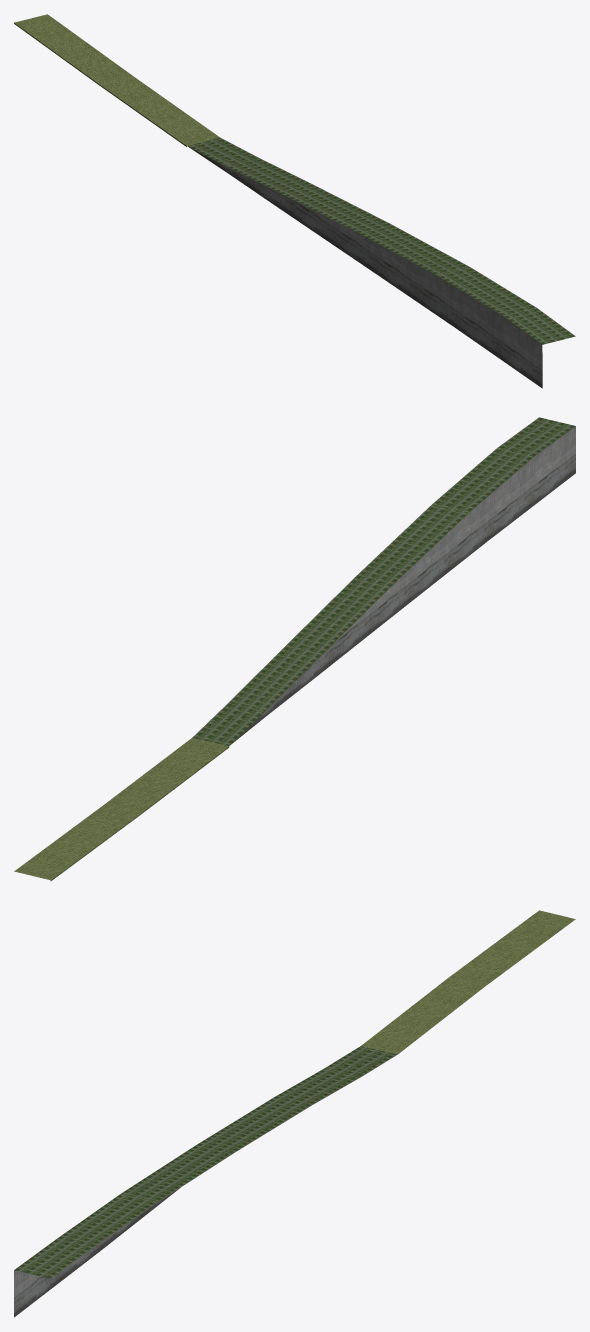
File: lae2_ground01.obj
The picture shows the model from 3 angles, top to bottom: view 1: azimuth 30°, elevation 25°; view 2: azimuth 150°, elevation 25°; view 3: azimuth 330°, elevation 25°; orthographic projection. The views are drawn at different scales.
Parts seen in each view (by area): view 1: lae2_ground01; view 2: lae2_ground01; view 3: lae2_ground01.
Part boxes in pixels (x1,y1,x2,y2): lae2_ground01: (14,14,575,388); lae2_ground01: (14,417,575,881); lae2_ground01: (14,910,575,1317).
Bounding box in the file's own units: 16.32 × 12.92 × 260.
